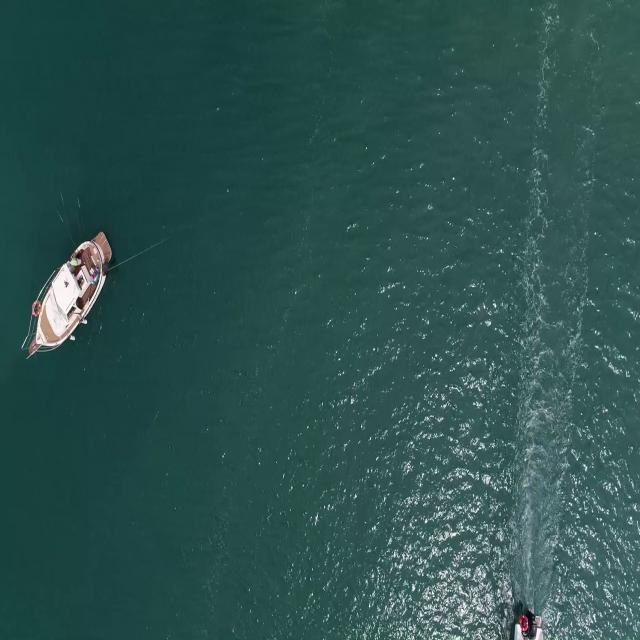boat: (28, 234, 114, 355)
life_buoy: (32, 295, 42, 318), (518, 611, 529, 630)
person: (68, 255, 85, 268), (89, 268, 101, 284)
